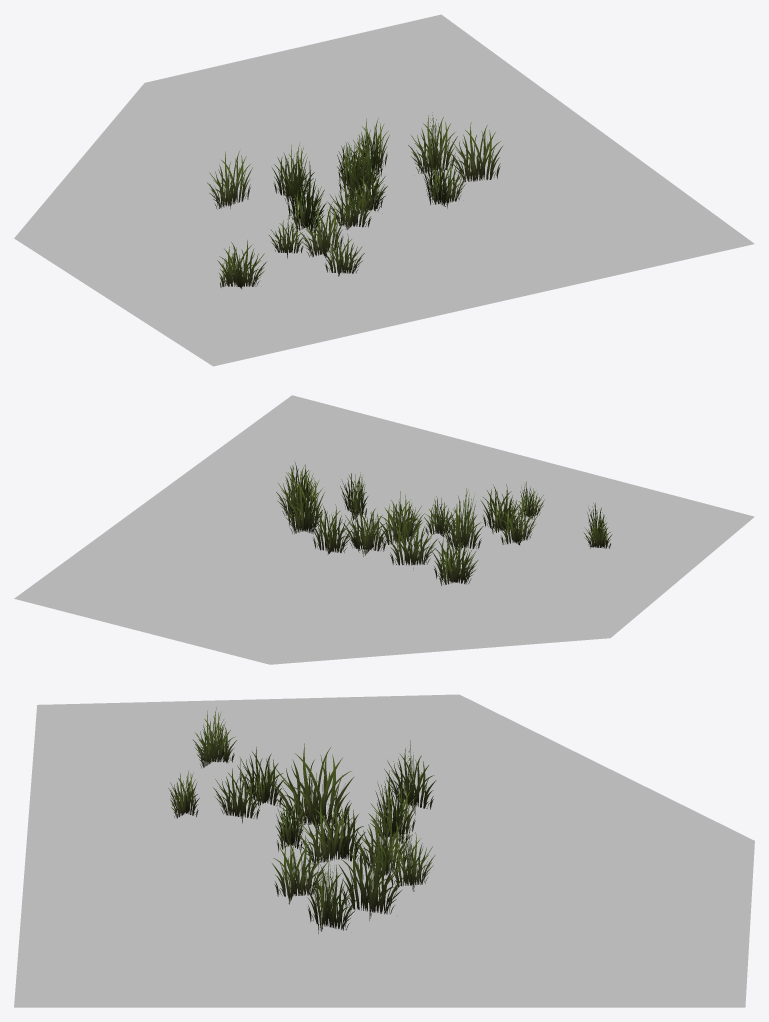
The model's file is Mud_Decal_06.fbx.
3 views of the same model, one above another, from view 1: azimuth 30°, elevation 25°; view 2: azimuth 150°, elevation 25°; view 3: azimuth 270°, elevation 25° (orthographic). The views are drawn at different scales.
Visible parts, largest first — view 1: Mud_Decal_06; view 2: Mud_Decal_06; view 3: Mud_Decal_06.
Boxes of the visible parts, box(x1,y1,x2,y2) form: Mud_Decal_06: box(14, 14, 754, 366); Mud_Decal_06: box(14, 395, 754, 664); Mud_Decal_06: box(14, 694, 754, 1007).
Size of the model in its own units: 8.92 by 8.92 by 1.15.
